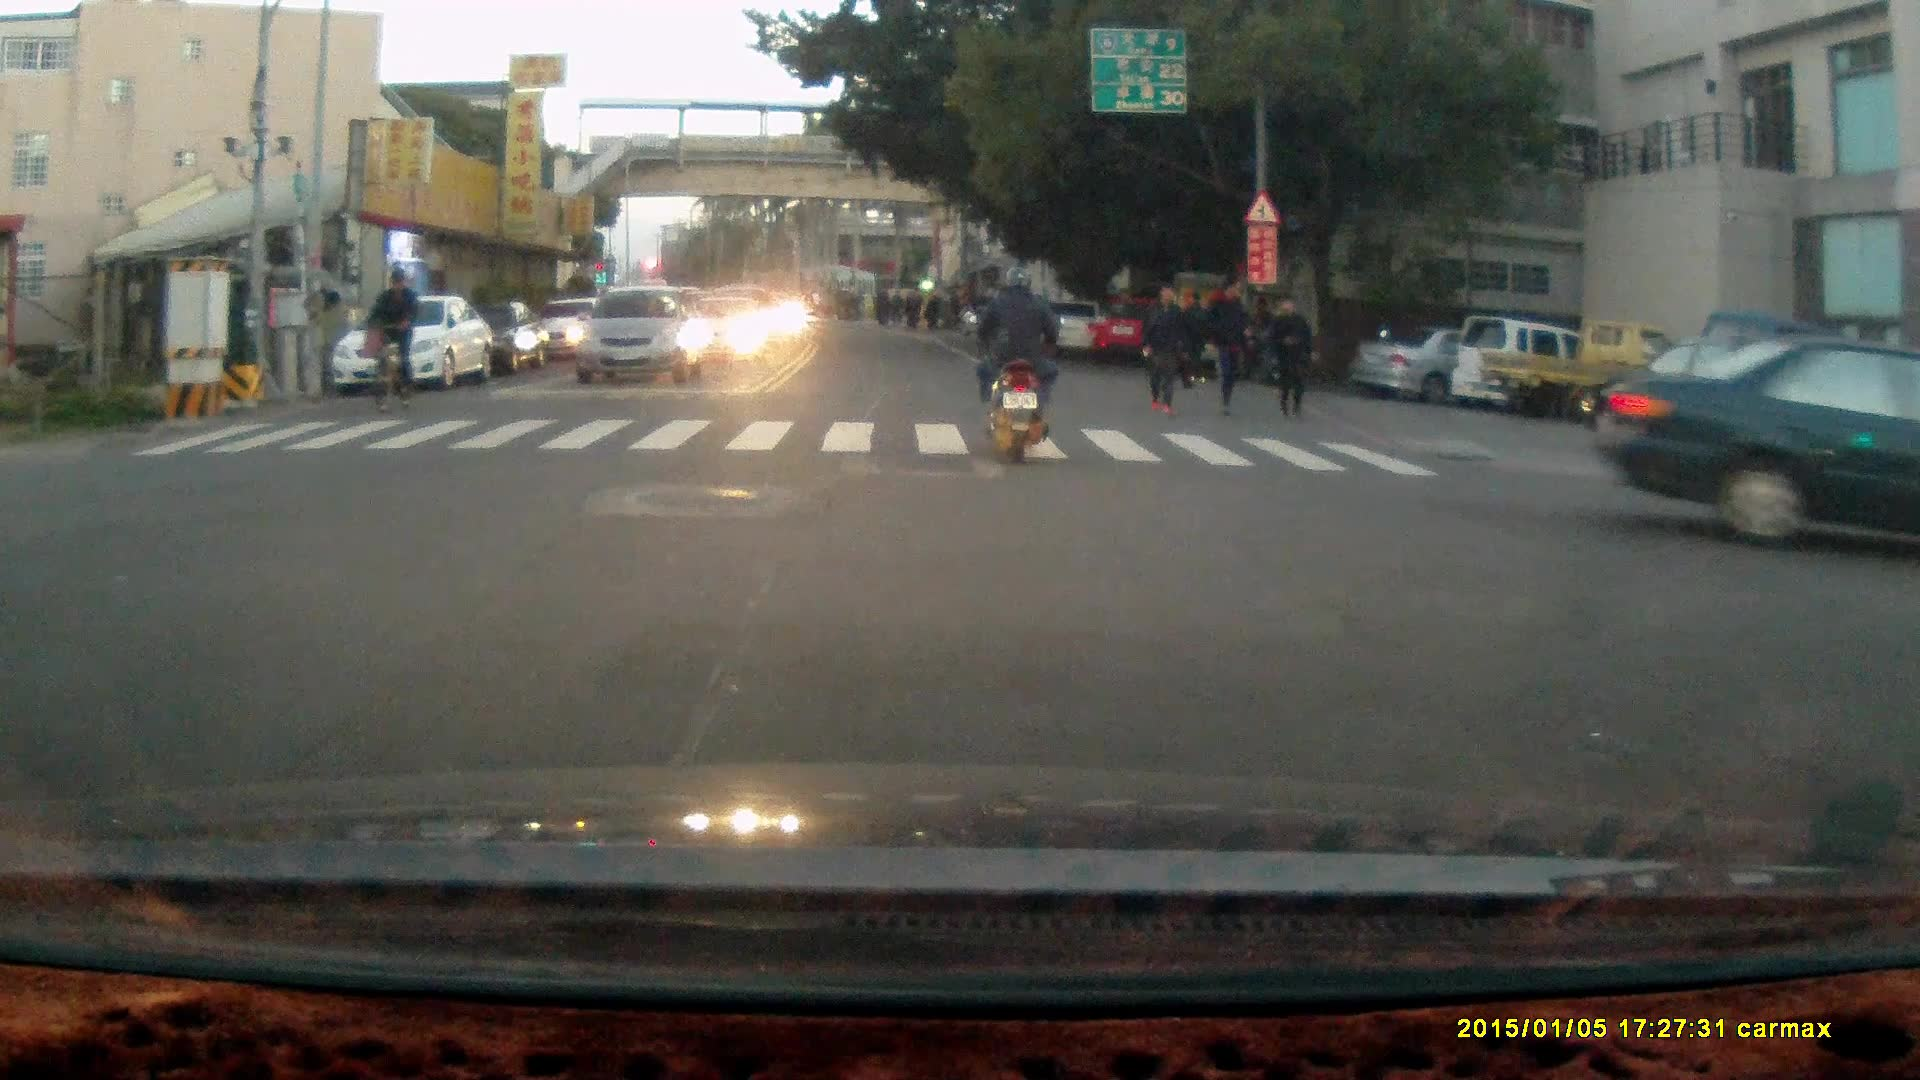pedestrian: (1136, 276, 1189, 416), (1202, 275, 1251, 417), (1267, 294, 1310, 422), (1180, 289, 1214, 383)
rider: (966, 265, 1060, 466), (363, 265, 419, 414)
vehicle: (1595, 328, 1920, 565), (326, 295, 500, 398), (1356, 326, 1550, 403), (569, 288, 711, 389), (1095, 302, 1222, 370)
